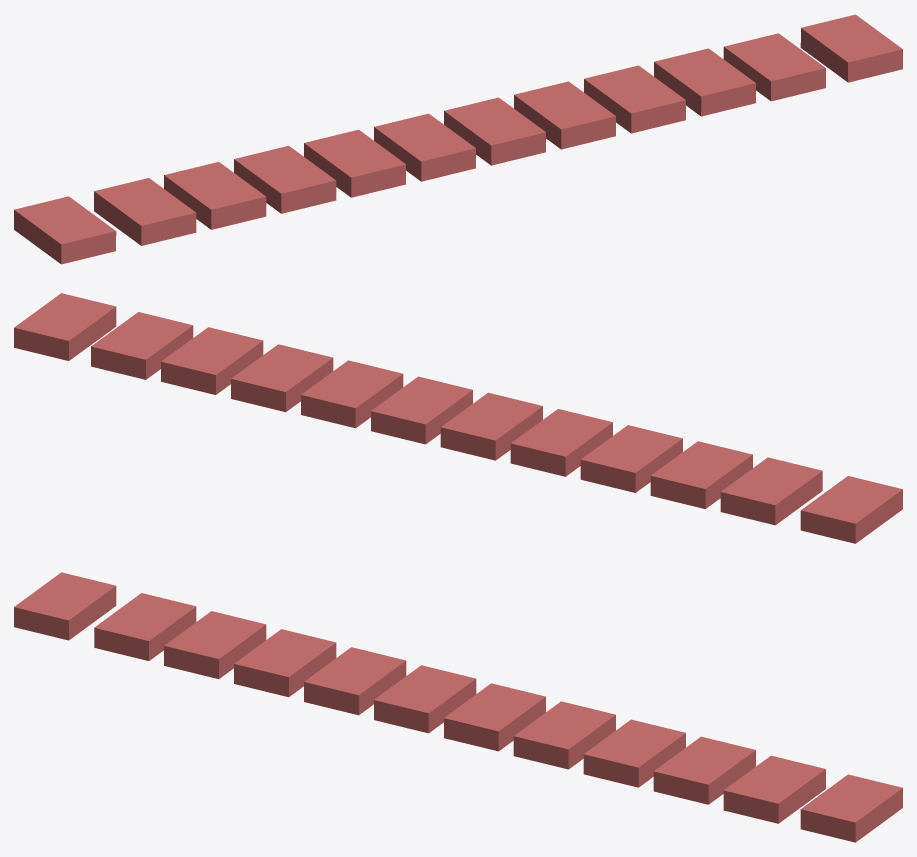
The model's file is placeholder.fbx.
3 views of the same model, one above another, from view 1: azimuth 30°, elevation 25°; view 2: azimuth 150°, elevation 25°; view 3: azimuth 330°, elevation 25° (orthographic).
Parts seen in each view (by area): view 1: Component_212_8, Component_212_1, Component_212_10, Component_212_12, Component_212_2, Component_212_4, Component_212_5, Component_212_6, Component_212_3, Component_212_7, Component_212_9, Component_212_11; view 2: Component_212_8, Component_212_1, Component_212_10, Component_212_12, Component_212_2, Component_212_4, Component_212_5, Component_212_7, Component_212_3, Component_212_9, Component_212_6, Component_212_11; view 3: Component_212_1, Component_212_10, Component_212_11, Component_212_12, Component_212_3, Component_212_2, Component_212_4, Component_212_5, Component_212_8, Component_212_7, Component_212_6, Component_212_9.
Boxes of the visible parts, x1=… form: Component_212_8: x1=94, y1=178, x2=196, y2=245; Component_212_1: x1=800, y1=14, x2=902, y2=82; Component_212_10: x1=14, y1=196, x2=116, y2=264; Component_212_12: x1=654, y1=48, x2=755, y2=116; Component_212_2: x1=234, y1=145, x2=336, y2=213; Component_212_4: x1=164, y1=162, x2=266, y2=229; Component_212_5: x1=374, y1=113, x2=475, y2=181; Component_212_6: x1=444, y1=97, x2=545, y2=165; Component_212_3: x1=514, y1=81, x2=615, y2=149; Component_212_7: x1=304, y1=129, x2=405, y2=197; Component_212_9: x1=584, y1=65, x2=685, y2=133; Component_212_11: x1=723, y1=33, x2=825, y2=101; Component_212_8: x1=720, y1=457, x2=822, y2=525; Component_212_1: x1=14, y1=293, x2=116, y2=360; Component_212_10: x1=800, y1=476, x2=902, y2=543; Component_212_12: x1=161, y1=327, x2=263, y2=394; Component_212_2: x1=580, y1=425, x2=682, y2=492; Component_212_4: x1=650, y1=441, x2=752, y2=508; Component_212_5: x1=440, y1=392, x2=542, y2=460; Component_212_7: x1=510, y1=409, x2=612, y2=476; Component_212_3: x1=301, y1=360, x2=403, y2=428; Component_212_9: x1=231, y1=344, x2=333, y2=412; Component_212_6: x1=371, y1=376, x2=472, y2=444; Component_212_11: x1=91, y1=312, x2=193, y2=379; Component_212_1: x1=800, y1=774, x2=902, y2=842; Component_212_10: x1=14, y1=572, x2=116, y2=640; Component_212_11: x1=723, y1=755, x2=825, y2=823; Component_212_12: x1=653, y1=736, x2=755, y2=804; Component_212_3: x1=513, y1=701, x2=615, y2=769; Component_212_2: x1=234, y1=629, x2=336, y2=697; Component_212_4: x1=164, y1=611, x2=266, y2=678; Component_212_5: x1=374, y1=665, x2=476, y2=733; Component_212_8: x1=94, y1=593, x2=196, y2=660; Component_212_7: x1=304, y1=647, x2=406, y2=715; Component_212_6: x1=444, y1=683, x2=545, y2=751; Component_212_9: x1=583, y1=719, x2=685, y2=787.
Bounding box in the file's own units: 438523 × 14881 × 43175.
